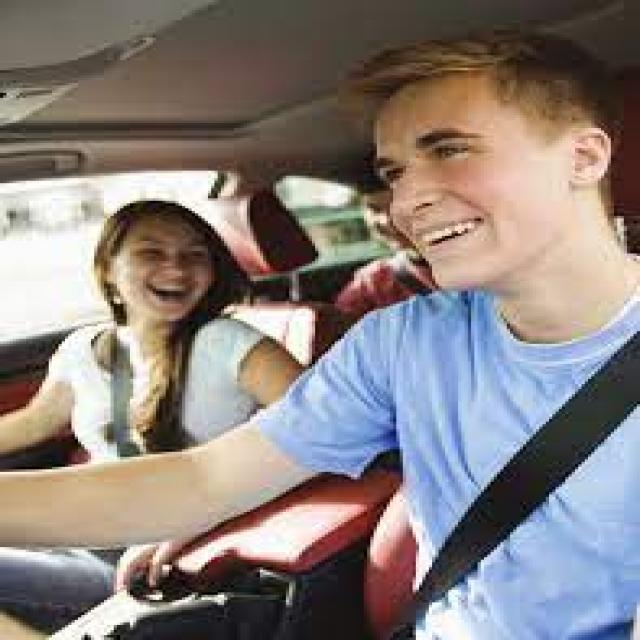seatbelt: (400, 318, 630, 632), (98, 308, 150, 464)
